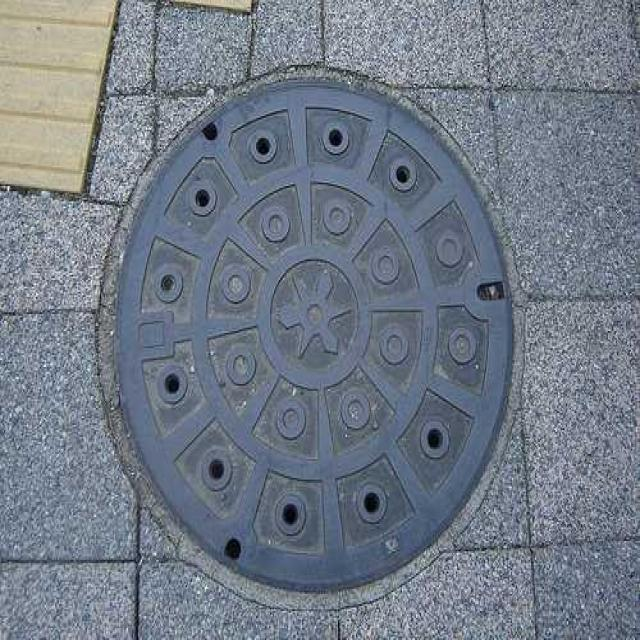manhole: (114, 83, 513, 589)
